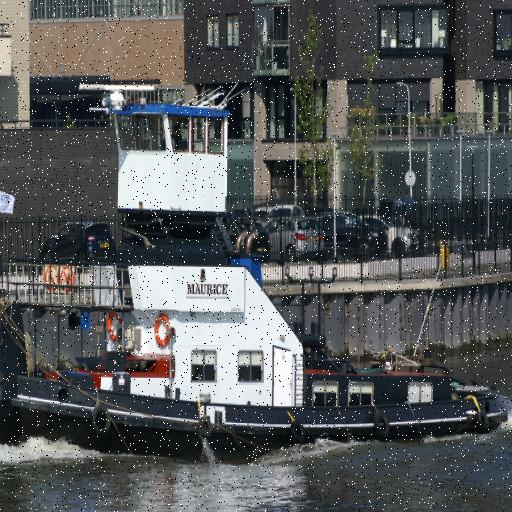tugboat: (1, 81, 512, 474)
